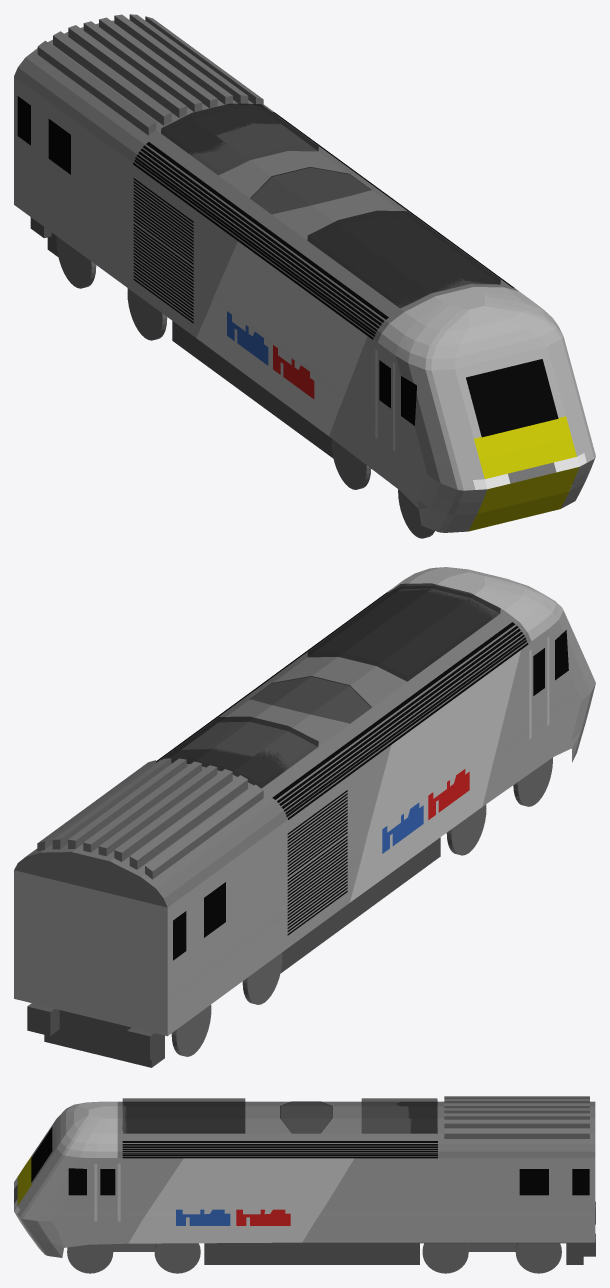
The model's file is br-cl43-front-nxec.dae.
The picture shows the model from 3 angles, top to bottom: view 1: azimuth 30°, elevation 25°; view 2: azimuth 150°, elevation 25°; view 3: azimuth 270°, elevation 25°; orthographic projection. The views are drawn at different scales.
Visible parts, largest first — view 1: Plane_030, Plane_001, Cube_008, Plane_028, Plane_135, Plane_148, Plane_136, Plane_117, Plane_166, Plane_137, Cube_033, Cylinder_009 (+6 smaller); view 2: Plane_030, Plane_001, Plane_019, Cube_008, Plane_135, Plane_148, Plane_136, Plane_166, Plane_028, Plane_137, Cube_033, Cube_001 (+9 smaller); view 3: Plane_030, Plane_001, Cube_008, Plane_104, Cube_033, Plane_135, Plane_028, Plane_136, Plane_137, Cylinder, Cylinder_010, Cylinder_011 (+13 smaller).
Part boxes in pixels (<box>): Plane_030: <box>14,76,595,532</box>; Plane_001: <box>14,20,518,342</box>; Cube_008: <box>37,14,263,135</box>; Plane_028: <box>378,287,563,370</box>; Plane_135: <box>307,210,500,308</box>; Plane_148: <box>133,142,388,339</box>; Plane_136: <box>161,103,318,174</box>; Plane_117: <box>466,359,558,437</box>; Plane_166: <box>133,178,193,323</box>; Plane_137: <box>250,167,371,214</box>; Cube_033: <box>172,321,333,458</box>; Cylinder_009: <box>127,288,167,340</box>; Plane_030: <box>167,610,595,1035</box>; Plane_001: <box>14,586,531,907</box>; Plane_019: <box>14,870,167,1036</box>; Cube_008: <box>37,758,263,879</box>; Plane_135: <box>307,583,500,681</box>; Plane_148: <box>272,622,528,819</box>; Plane_136: <box>161,716,318,788</box>; Plane_166: <box>287,790,347,935</box>; Plane_028: <box>390,567,563,640</box>; Plane_137: <box>250,676,371,723</box>; Cube_033: <box>280,837,440,973</box>; Cube_001: <box>44,1010,164,1067</box>; Plane_030: <box>15,1119,595,1257</box>; Plane_001: <box>117,1101,595,1157</box>; Cube_008: <box>444,1096,589,1138</box>; Plane_104: <box>122,1141,437,1158</box>; Cube_033: <box>204,1243,419,1264</box>; Plane_135: <box>122,1098,245,1133</box>; Plane_028: <box>56,1101,117,1157</box>; Plane_136: <box>361,1098,437,1133</box>; Plane_137: <box>280,1101,332,1133</box>; Cylinder: <box>154,1243,200,1273</box>; Cylinder_010: <box>422,1243,468,1273</box>; Cylinder_011: <box>515,1243,561,1273</box>.
Bounding box in the file's own units: 2.02 × 9.99 × 2.77.
